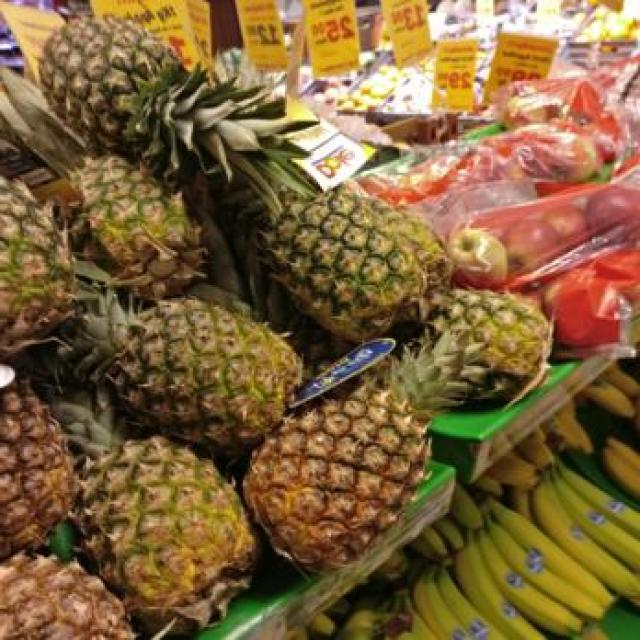pineapple: (40, 18, 314, 279), (244, 332, 526, 569), (52, 385, 258, 639), (71, 298, 301, 456), (266, 182, 450, 342), (70, 158, 200, 298), (0, 176, 78, 353), (434, 289, 551, 406), (0, 382, 76, 559), (0, 552, 135, 639)
